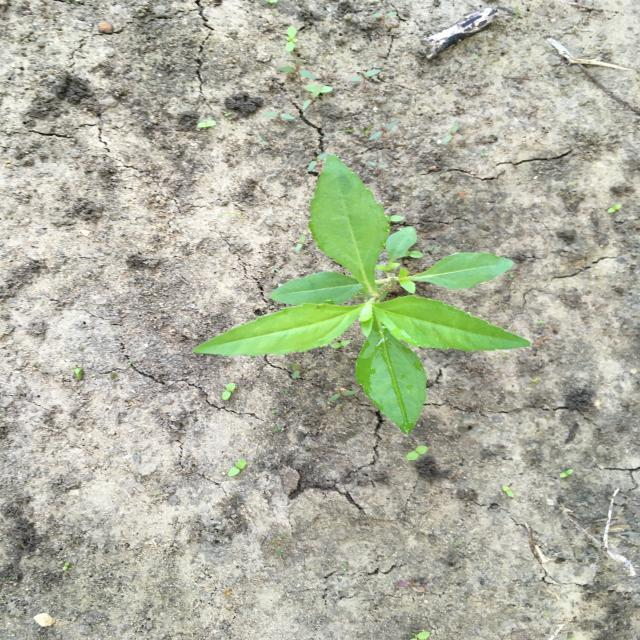Eclipta: (191, 151, 533, 437)
